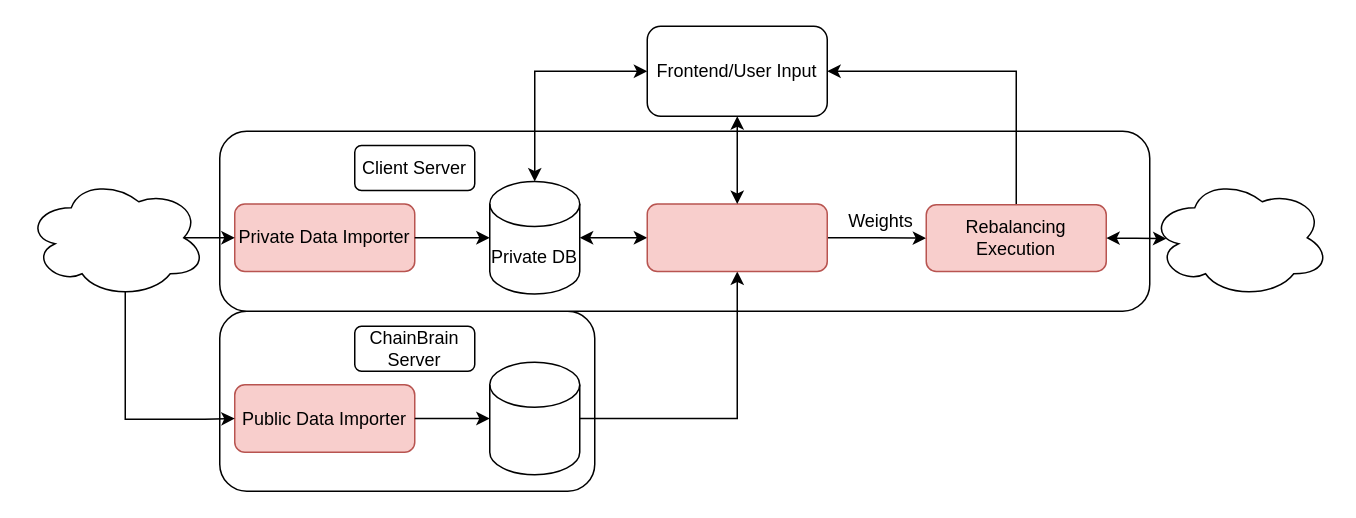
Image size: 1356x518. Some labels were removed from this diagram. Each missing label, with the centre of its shape:
Internet (Exchanges): point 1239,237
Internet (Market data): point 115,237
Portfolio Optimization: point 736,237
Public DB: point 534,418
